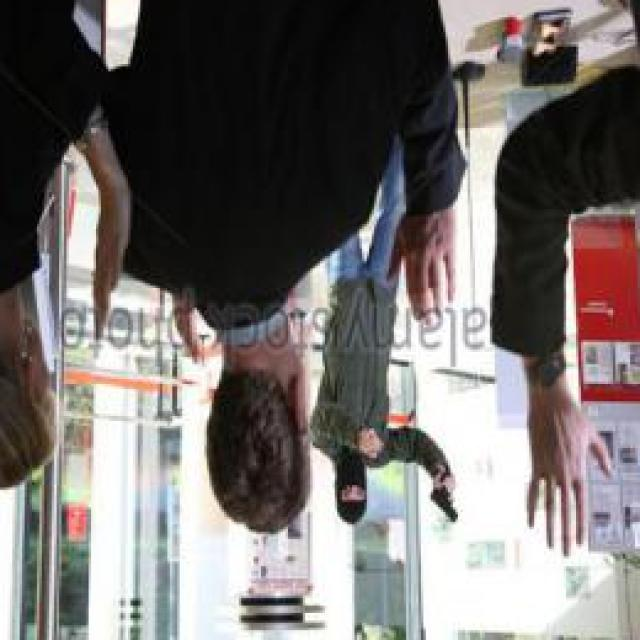pistol: (427, 464, 458, 524)
